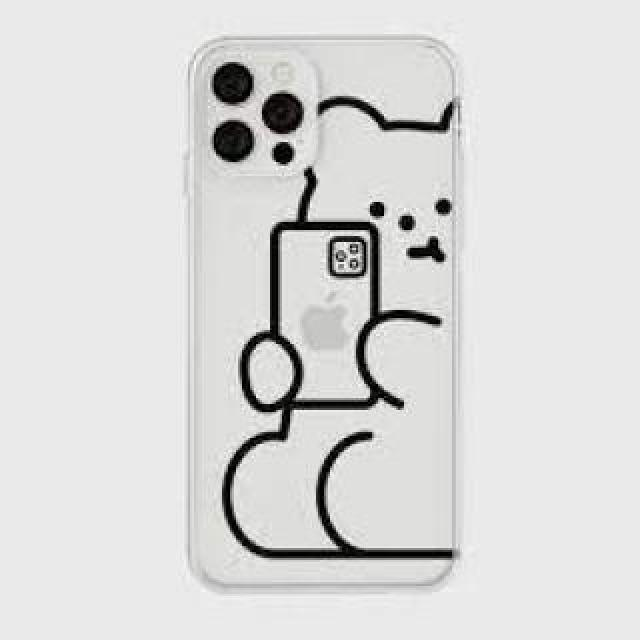smart phone: (158, 18, 478, 617)
